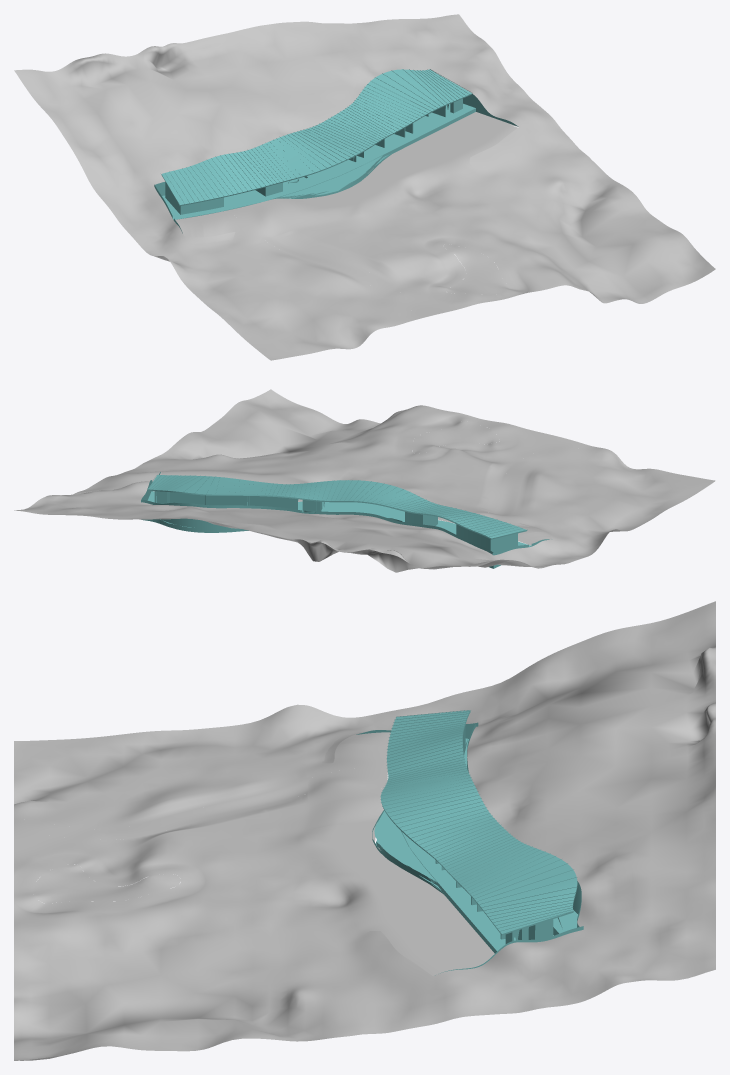
The model's file is Project 02_Not a Hotel.glb.
The picture shows the model from 3 angles, top to bottom: view 1: azimuth 30°, elevation 25°; view 2: azimuth 150°, elevation 25°; view 3: azimuth 270°, elevation 25°; orthographic projection. The views are drawn at different scales.
Size of the model in its own units: 0.9969 by 0.2921 by 0.997.
